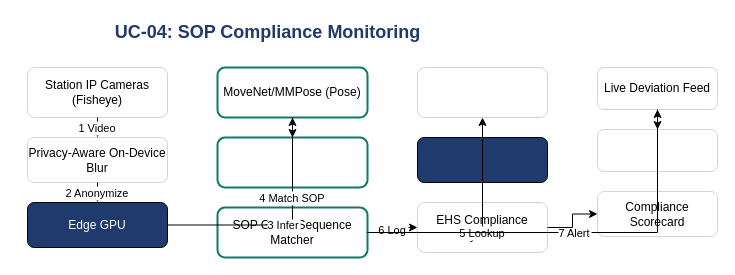
The diagram is 735 pixels wide and 275 high, and some of its shapes have lost their labels. The box of each missing label's shape, as (x1, y1, x2, y2) in pixels:
Coaching Overlay: (596, 128, 718, 172)
MES Work-Order Context: (416, 136, 548, 182)
SlowFast (Action Recog.): (216, 136, 368, 188)
SOP Digital Library: (416, 66, 548, 118)
